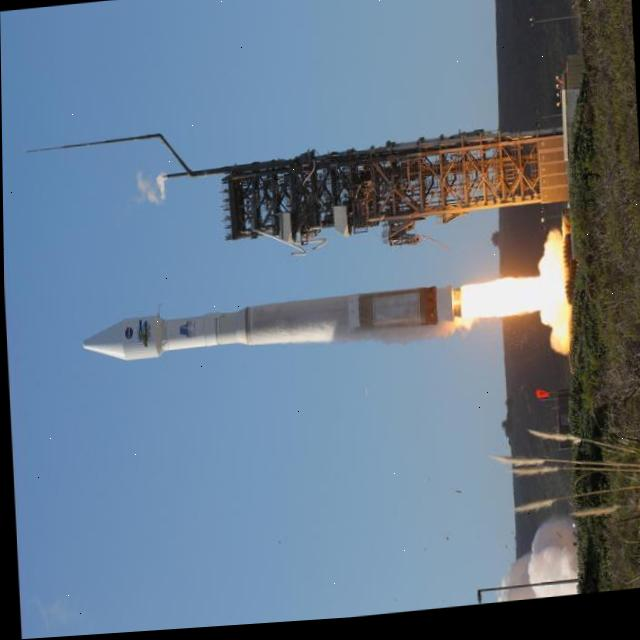missile: (79, 280, 473, 380)
